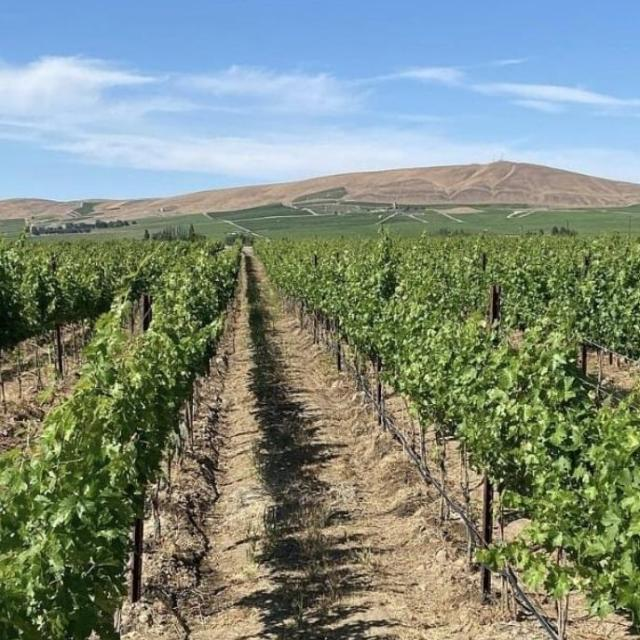row: (124, 242, 502, 640)
